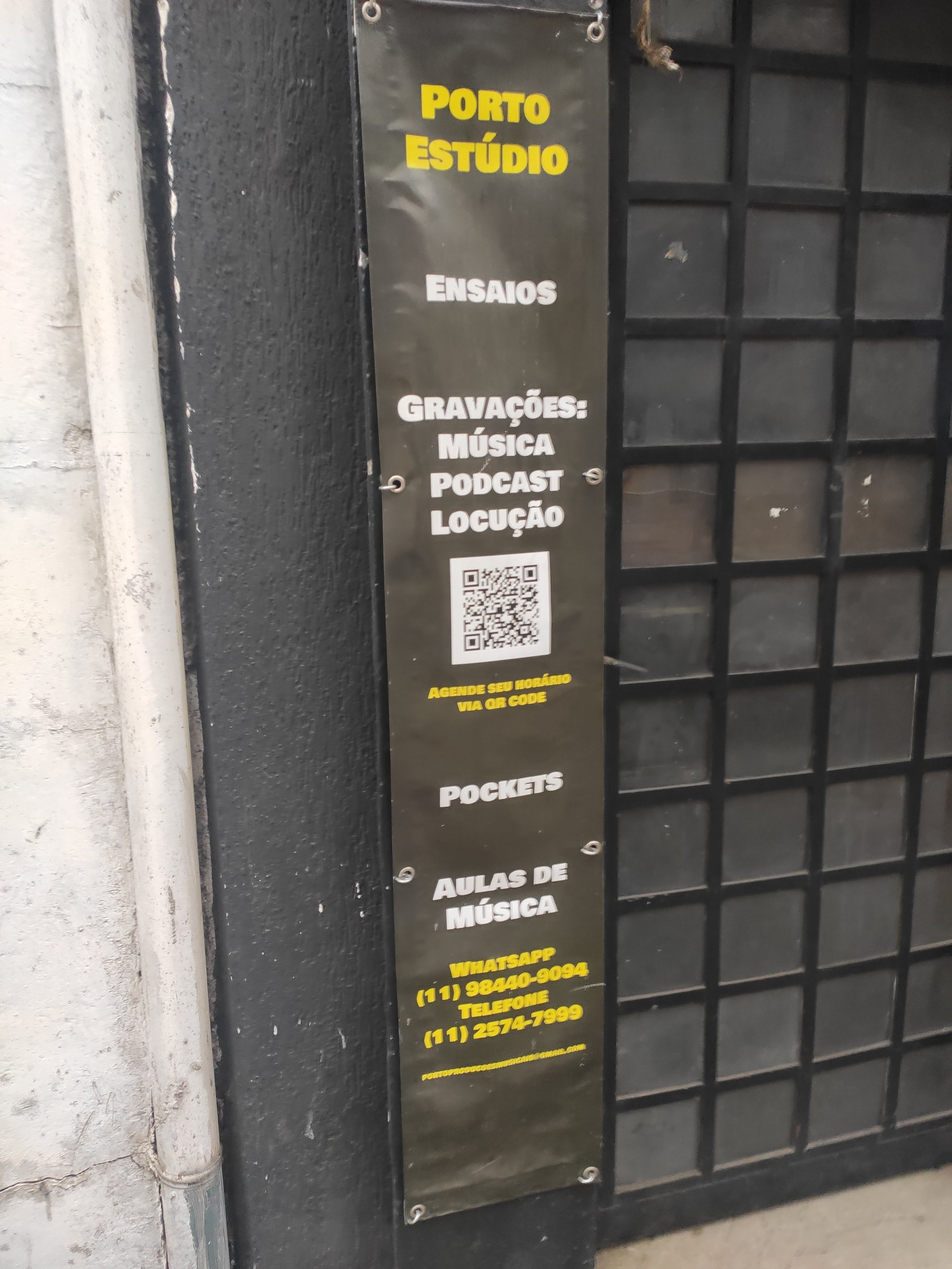QR-CODE: (463, 565, 539, 651)
